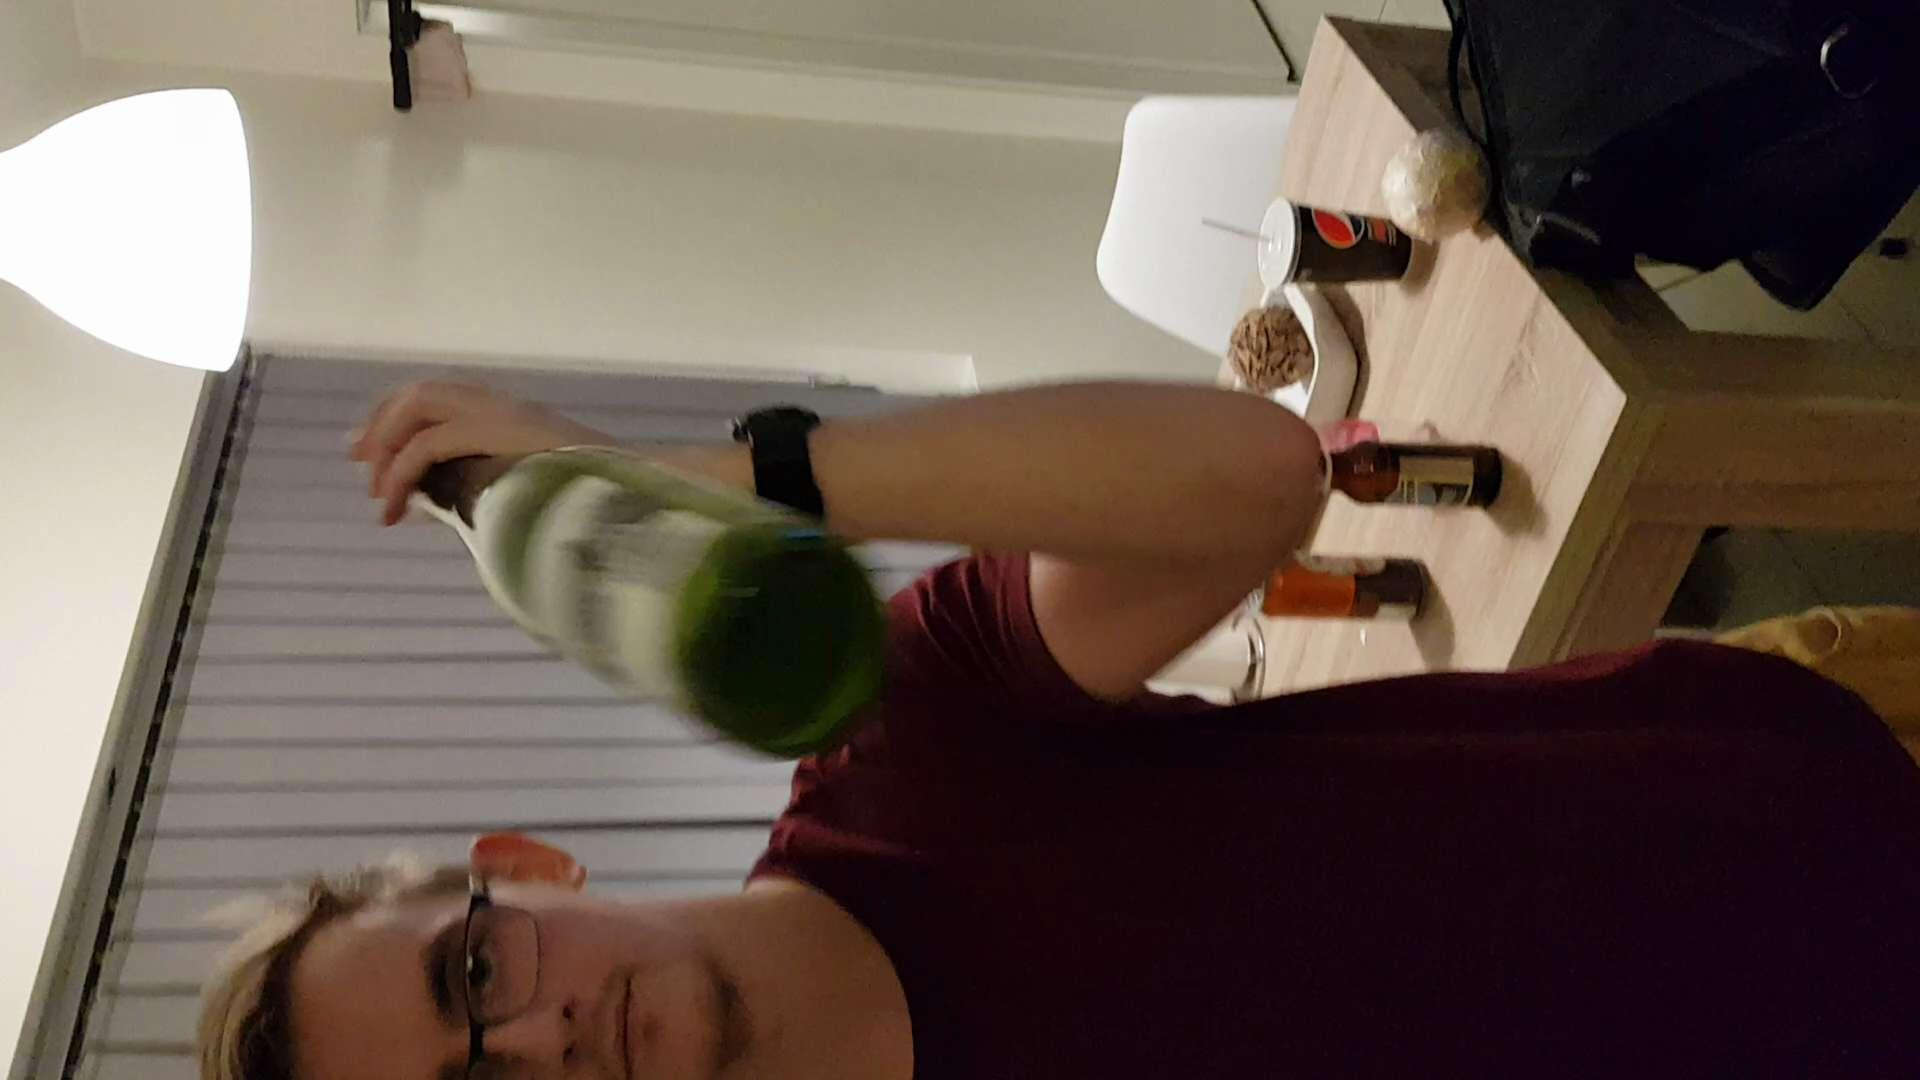Bottle: (372, 405, 881, 761)
Can: (1244, 542, 1451, 637)
Sphere: (1378, 123, 1495, 256)
